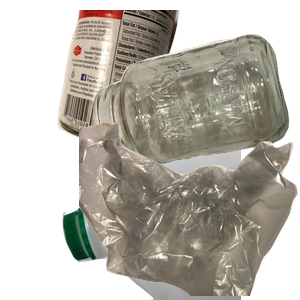glass: (91, 32, 300, 189)
metal: (55, 10, 227, 149)
plastic: (60, 120, 300, 300)
trash: (79, 120, 300, 300)
